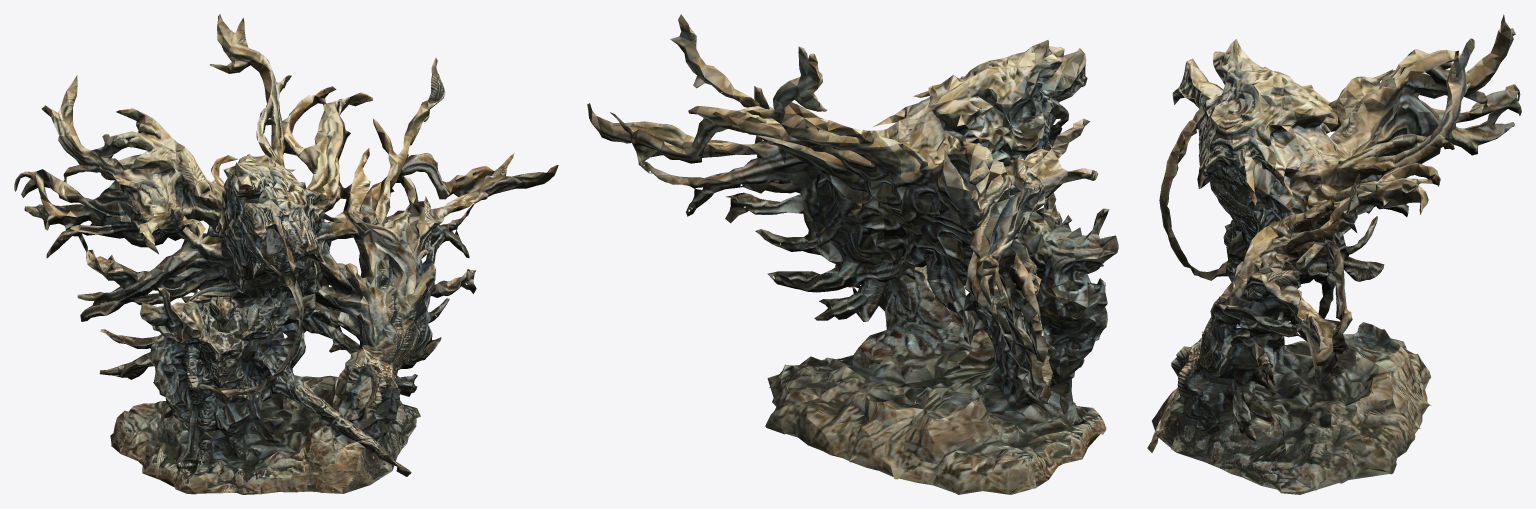
File: doomwing.glb
3 views of the same model, side by side, from view 1: azimuth 30°, elevation 25°; view 2: azimuth 150°, elevation 25°; view 3: azimuth 270°, elevation 25° (orthographic). The views are drawn at different scales.
Visible parts, largest first — view 1: geometry_0; view 2: geometry_0; view 3: geometry_0.
Part boxes in pixels (x1=…): geometry_0: x1=14, y1=14, x2=558, y2=494; geometry_0: x1=587, y1=14, x2=1118, y2=494; geometry_0: x1=1147, y1=14, x2=1521, y2=494.
Bounding box in the file's own units: 0.078 × 0.0605 × 0.052.
Materials: 1 (1 with a texture image).
